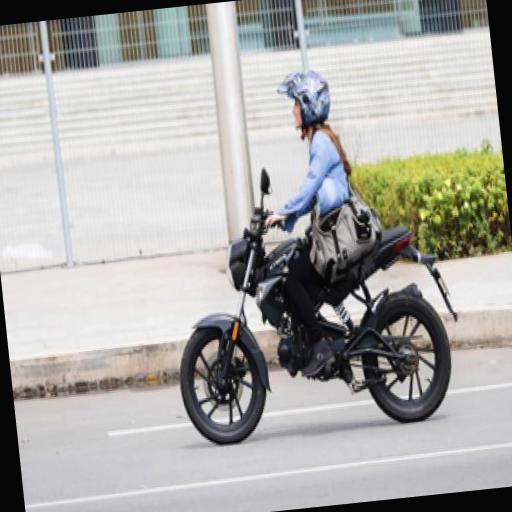helmet: (186, 49, 381, 446)
